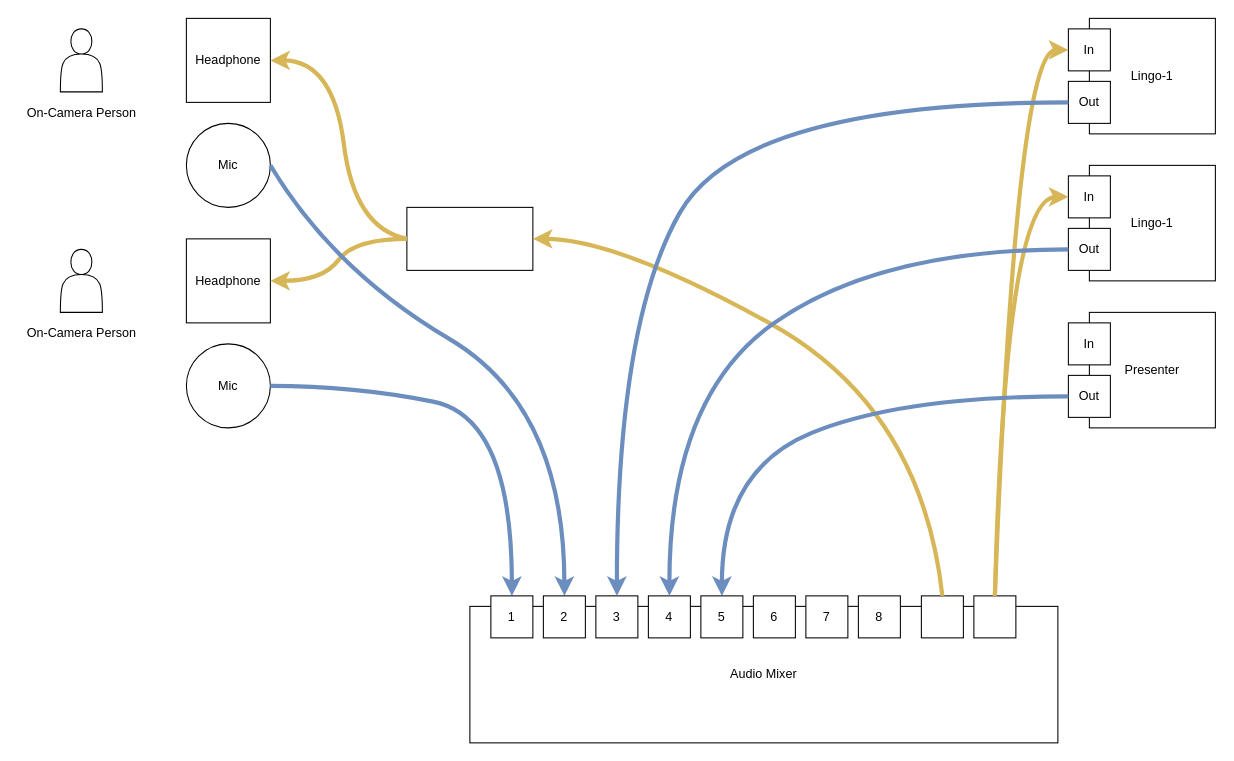
Image size: 1234x761. Some labels were removed from this diagram. The shapes that lost their labels are listed below. From the top down, each one's centre as x and y in pixels, then its label:
At [469,238]: "Headphone Amp".
At [941,616]: "S1".
At [994,616]: "S2".
